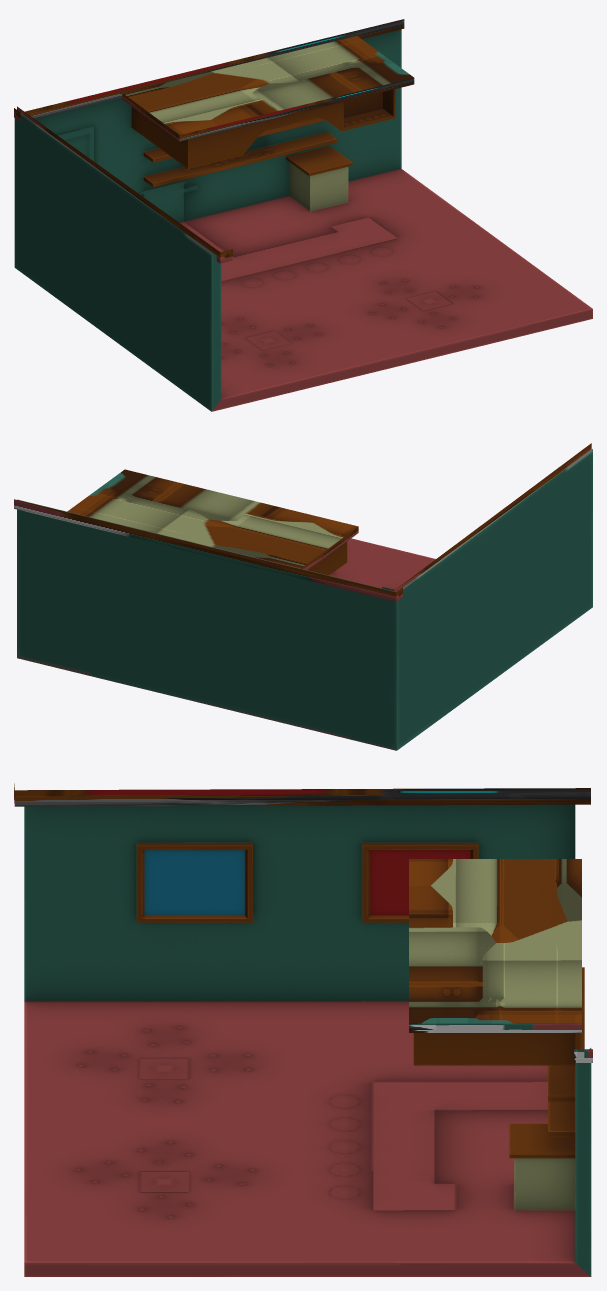
Rendered from bar_mesh.001_lev1.glb.
3 views of the same model, one above another, from view 1: azimuth 30°, elevation 25°; view 2: azimuth 150°, elevation 25°; view 3: azimuth 270°, elevation 25° (orthographic). The views are drawn at different scales.
Visible parts, largest first — view 1: bar_mesh.001_lev1; view 2: bar_mesh.001_lev1; view 3: bar_mesh.001_lev1.
Part boxes in pixels (x1=…): bar_mesh.001_lev1: x1=14, y1=19, x2=592, y2=411; bar_mesh.001_lev1: x1=14, y1=443, x2=592, y2=750; bar_mesh.001_lev1: x1=14, y1=783, x2=592, y2=1276.
Bounding box in the file's own units: 21.34 × 8.55 × 19.38.
1 material, 1 textured.
